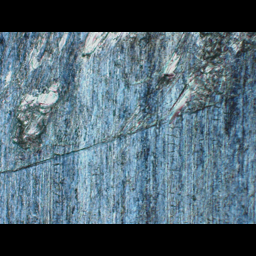d: (1, 31, 254, 177)
